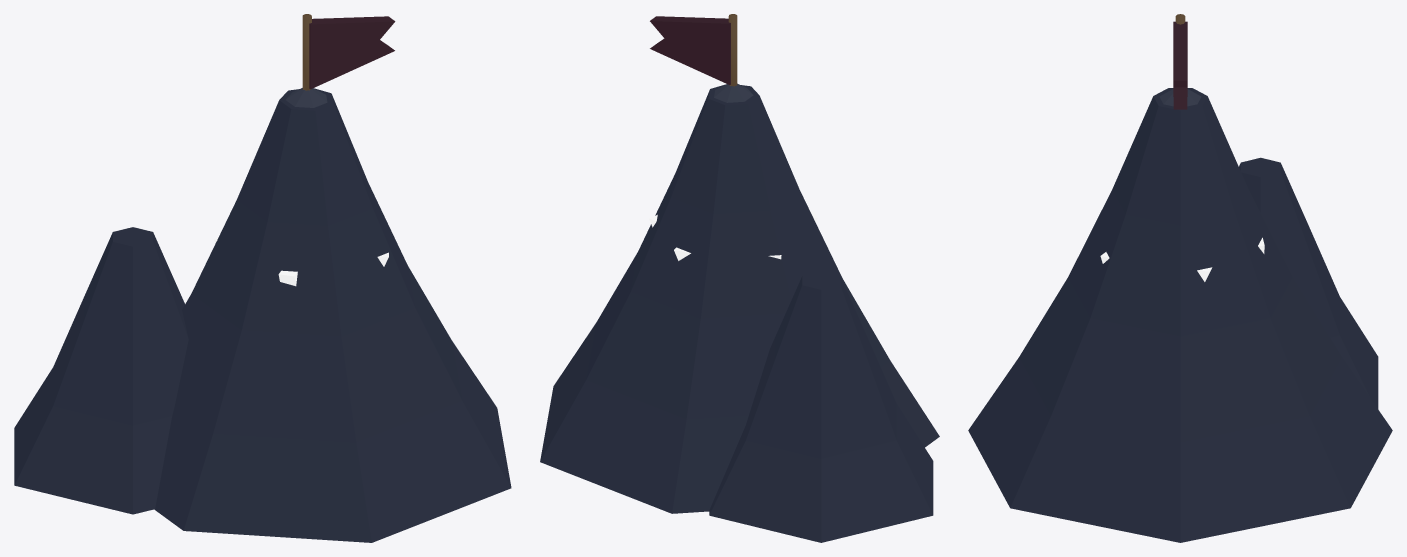
Rendered from emblem_st_summit.glb.
The picture shows the model from 3 angles, left to right: view 1: azimuth 30°, elevation 25°; view 2: azimuth 150°, elevation 25°; view 3: azimuth 270°, elevation 25°; orthographic projection. The views are drawn at different scales.
Parts seen in each view (by area): view 1: peak_ol, peak2_ol, flag_ol, pole, snow_ol; view 2: peak_ol, peak2_ol, flag_ol, snow_ol, pole; view 3: peak_ol, peak2_ol, flag_ol.
Boxes of the visible parts, bbox=[...] form: peak_ol: bbox=[154, 88, 511, 542]; peak2_ol: bbox=[14, 227, 188, 514]; flag_ol: bbox=[309, 16, 395, 89]; pole: bbox=[302, 14, 311, 90]; snow_ol: bbox=[286, 88, 327, 107]; peak_ol: bbox=[540, 84, 939, 513]; peak2_ol: bbox=[709, 271, 933, 542]; flag_ol: bbox=[650, 16, 730, 84]; snow_ol: bbox=[714, 83, 753, 102]; pole: bbox=[728, 14, 737, 86]; peak_ol: bbox=[968, 88, 1392, 542]; peak2_ol: bbox=[1239, 157, 1378, 408]; flag_ol: bbox=[1173, 21, 1187, 109].
Bounding box in the file's own units: 1.39 × 1.32 × 1.16.
